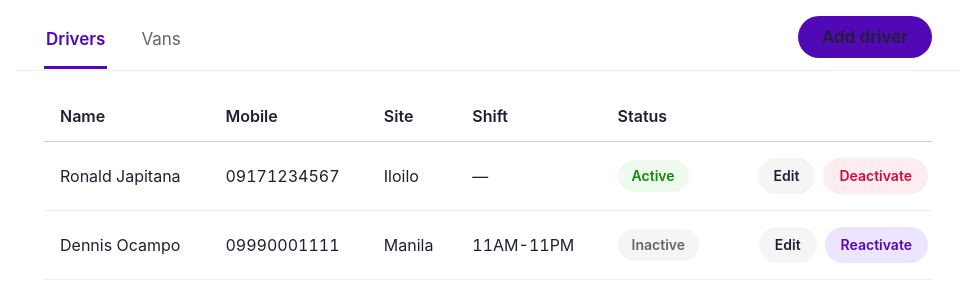
Test case: RosterView tabs › switches to vans when the Vans tab is pressed
What coordinates should you click on to do the following:
click the button "Vans"
I would click on:
 (161, 43)
Its box is [139,17,183,69].
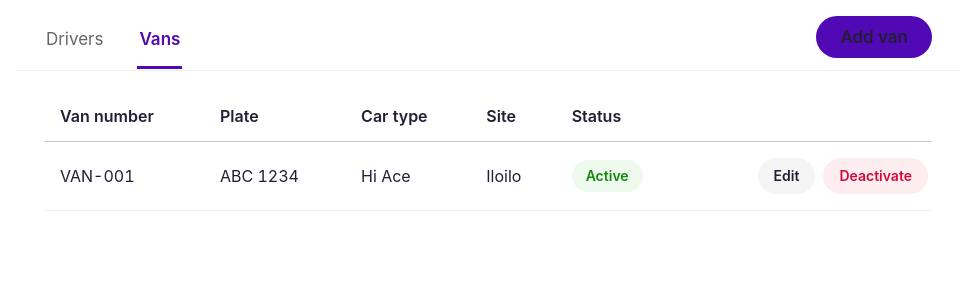
Expected: the column heading "VAN-001" is shown, [44,142,204,210]
Expected: the column heading "Ronald Japitana" is gone
